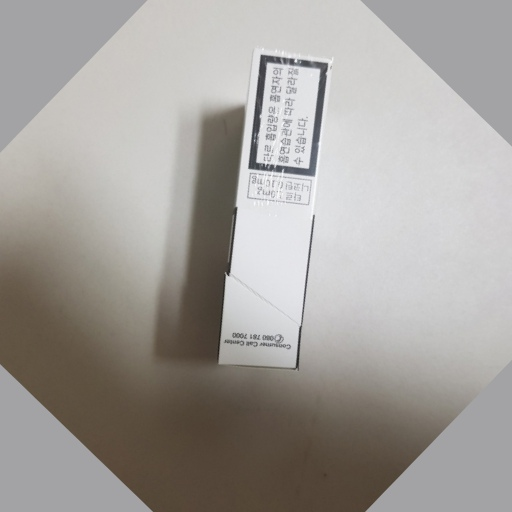Paper_0: (203, 45, 332, 393)
